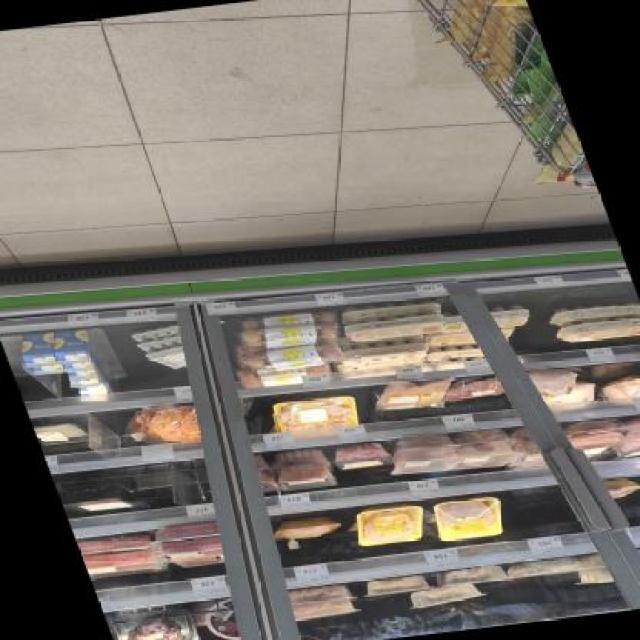Egg: (424, 494, 516, 546), (346, 501, 437, 553), (264, 390, 367, 435), (117, 402, 208, 450), (104, 604, 211, 640), (368, 376, 458, 415), (342, 310, 449, 342), (548, 313, 640, 347), (150, 533, 235, 569), (384, 444, 468, 480), (82, 544, 164, 580), (265, 511, 349, 546), (59, 484, 144, 518), (337, 338, 431, 368), (402, 579, 487, 612), (326, 440, 400, 475), (451, 439, 526, 473), (558, 427, 633, 461), (269, 460, 343, 494), (30, 412, 94, 451), (288, 596, 366, 626), (282, 580, 360, 610), (356, 571, 433, 601), (437, 562, 514, 592), (507, 554, 582, 583), (16, 331, 62, 369), (529, 367, 583, 399), (49, 329, 94, 366), (610, 425, 639, 461)
